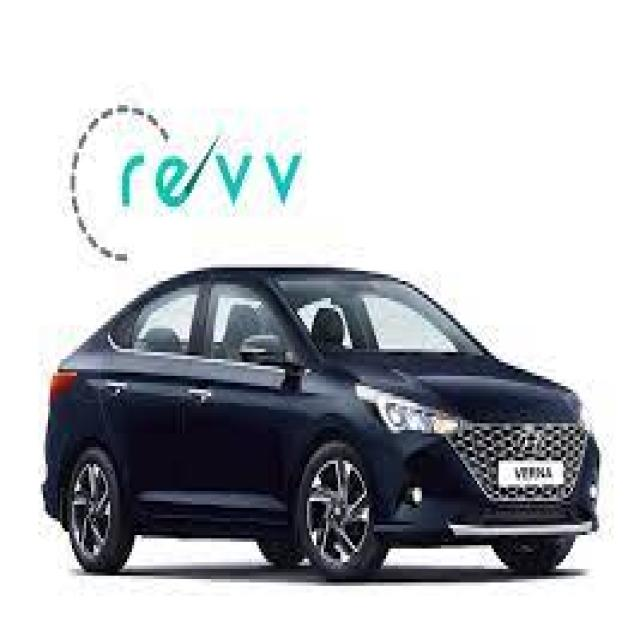car: (34, 256, 605, 595)
